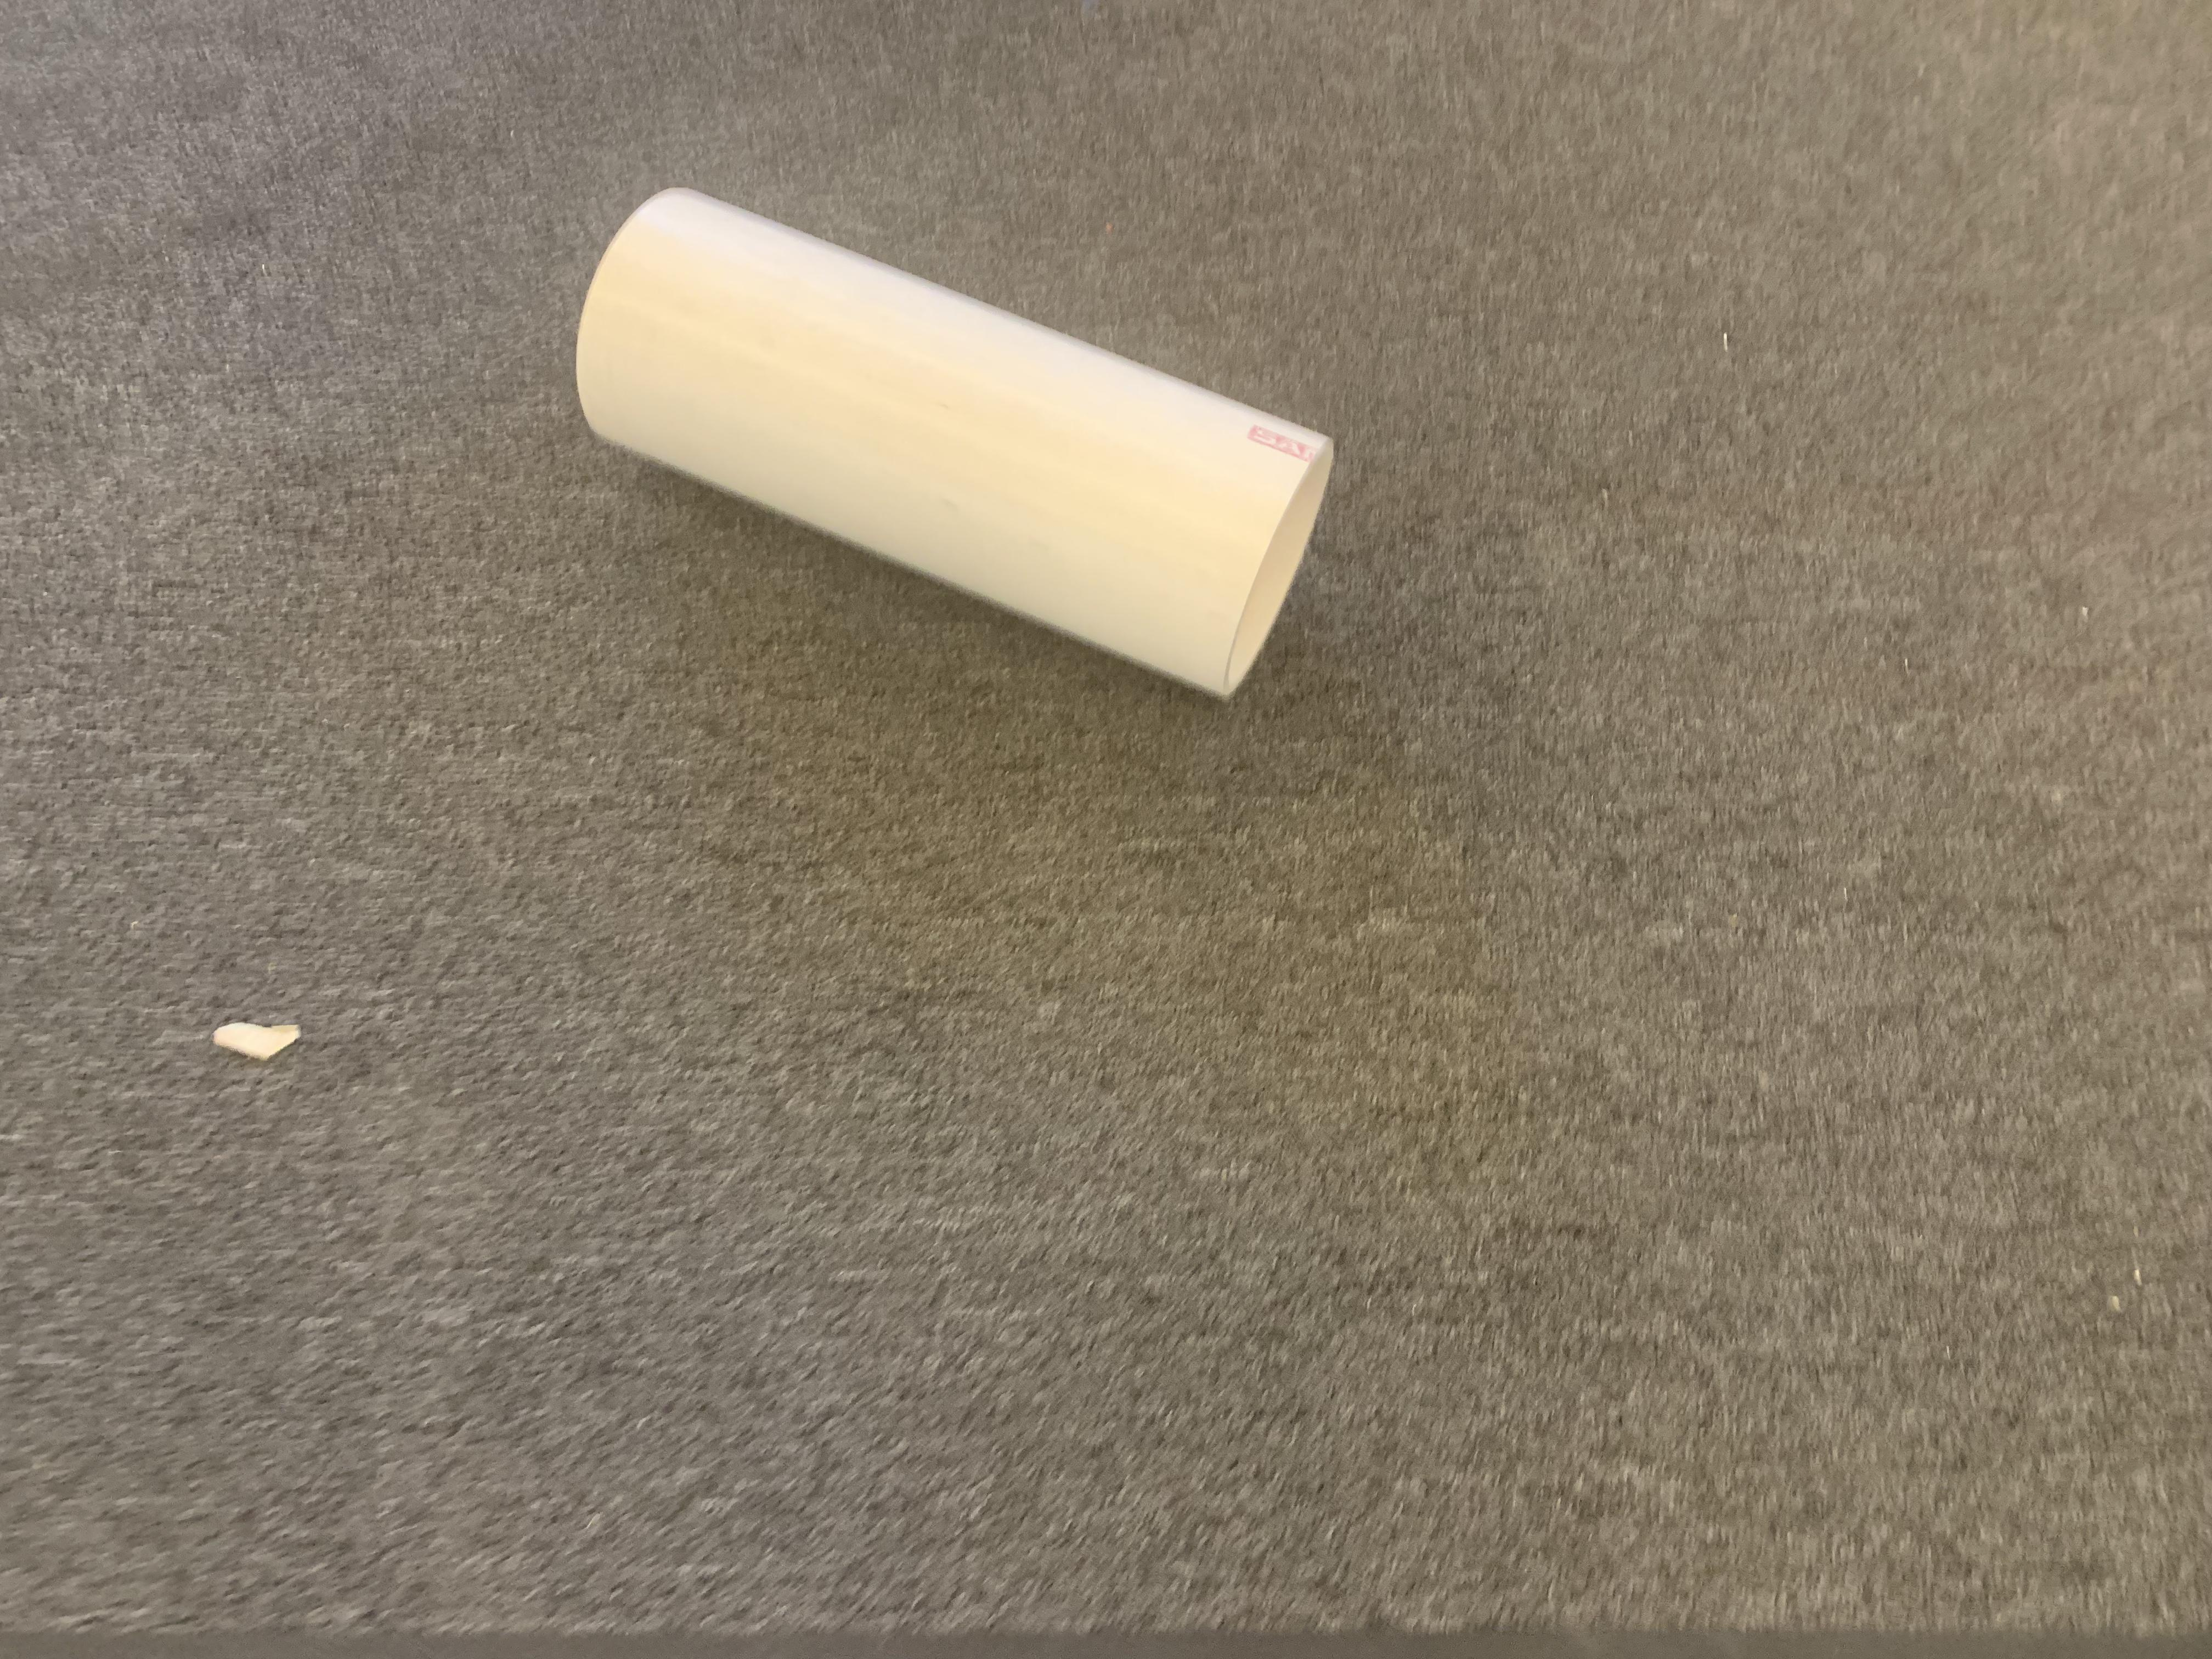coral: (571, 181, 1338, 704)
